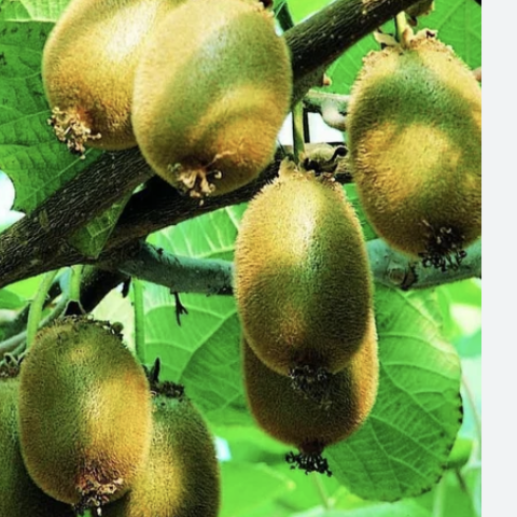kiwi: (326, 36, 516, 290), (212, 154, 392, 389), (129, 0, 327, 196), (1, 314, 164, 504)
